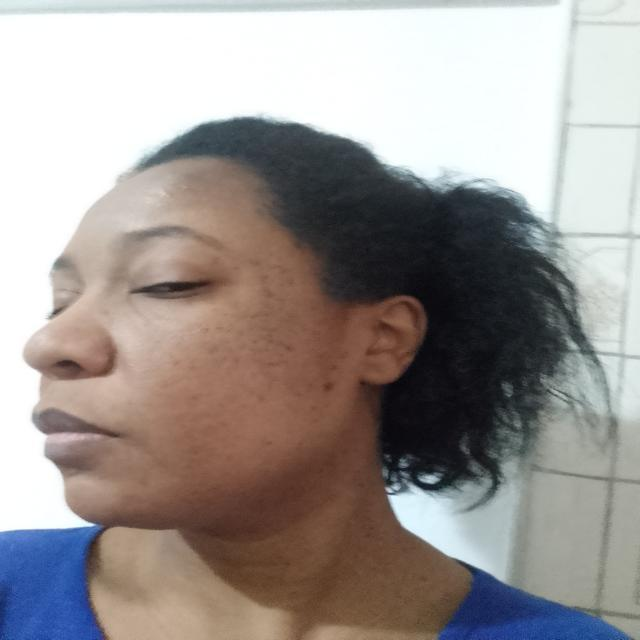acne: (256, 274, 276, 298), (266, 359, 292, 372), (308, 404, 322, 424), (237, 341, 259, 353), (248, 258, 269, 270), (199, 424, 218, 436), (320, 382, 338, 394), (249, 311, 271, 320), (287, 276, 300, 290), (206, 342, 221, 354), (188, 394, 207, 403), (188, 446, 203, 457), (280, 316, 300, 324), (263, 332, 276, 344), (178, 184, 194, 193), (198, 328, 216, 336), (328, 363, 344, 371), (182, 460, 198, 468), (262, 441, 276, 449), (276, 264, 290, 272), (290, 391, 304, 398), (256, 395, 268, 403), (338, 350, 350, 358), (210, 256, 220, 265), (228, 324, 236, 335), (310, 306, 320, 314), (276, 349, 286, 357), (158, 192, 170, 198), (285, 344, 295, 351), (232, 266, 242, 272), (224, 312, 234, 318), (174, 361, 184, 367), (230, 358, 240, 364)
wrinkle: (136, 448, 174, 469), (83, 470, 123, 484)
